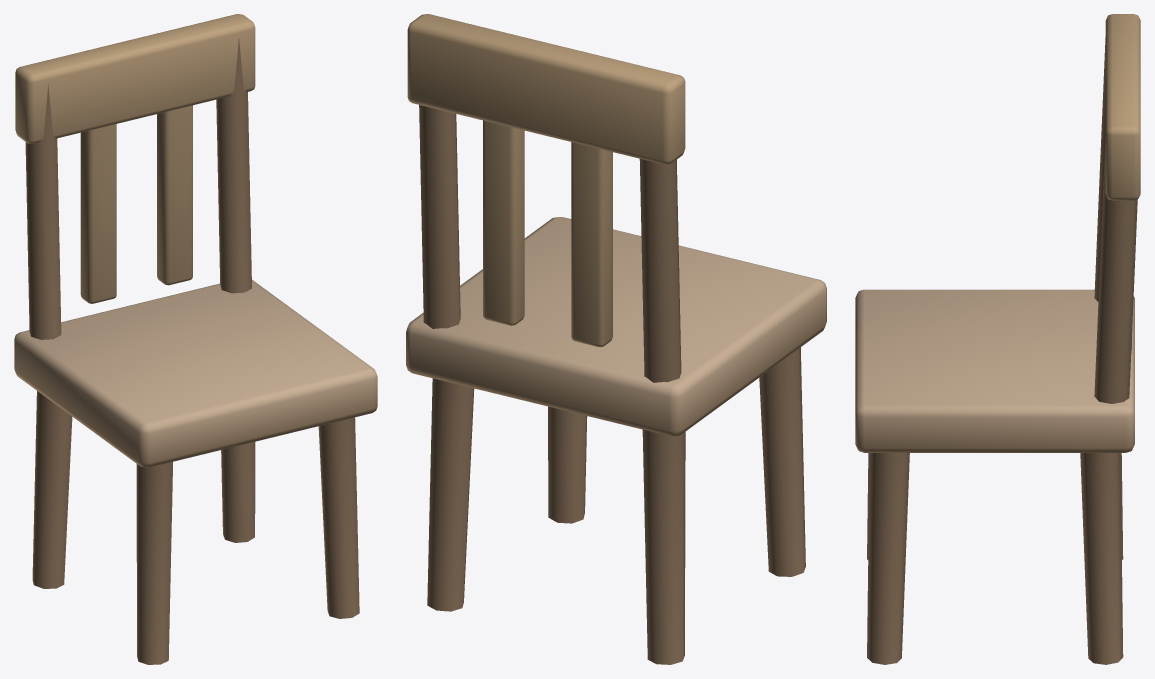
File: wood_chair.glb
The picture shows the model from 3 angles, left to right: view 1: azimuth 30°, elevation 25°; view 2: azimuth 150°, elevation 25°; view 3: azimuth 270°, elevation 25°; orthographic projection. The views are drawn at different scales.
Visible parts, largest first — view 1: wood_chair; view 2: wood_chair; view 3: wood_chair.
Boxes of the visible parts, box(x1,y1,x2,y2) form: wood_chair: box(14, 14, 377, 664); wood_chair: box(406, 14, 826, 664); wood_chair: box(855, 14, 1140, 664).
Bounding box in the file's own units: 0.5 × 1.02 × 0.49.
